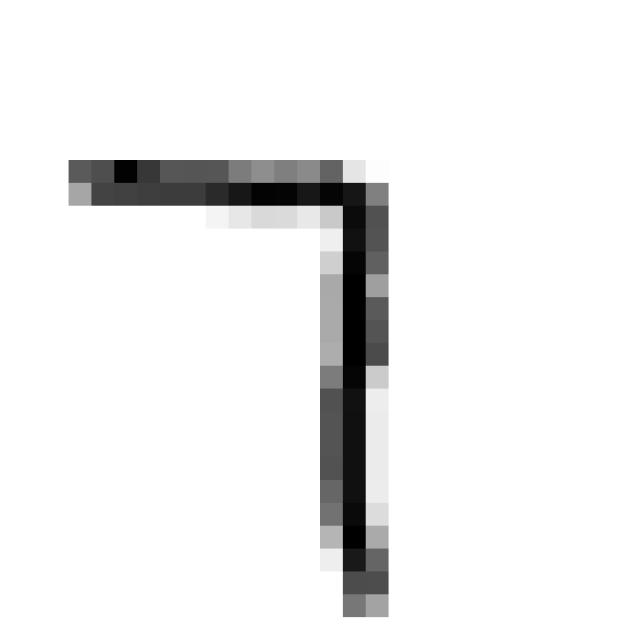6 -six-: (50, 130, 418, 631)
